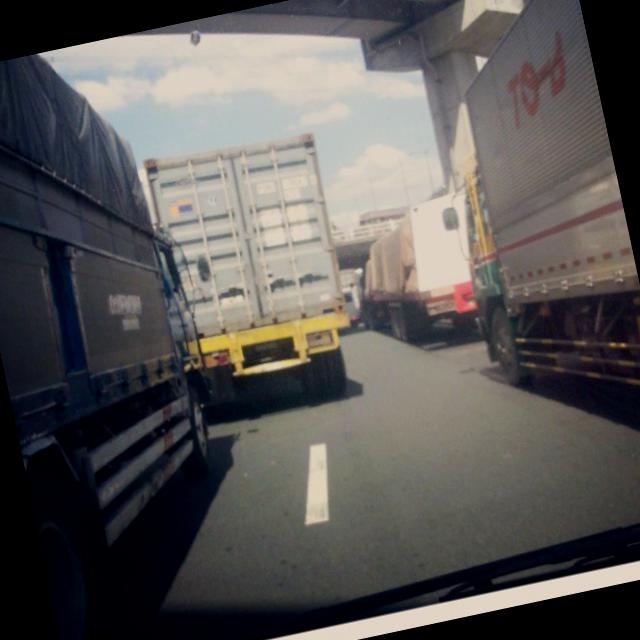Vehicle: (0, 32, 264, 640), (391, 0, 640, 434), (146, 127, 368, 424), (340, 194, 484, 356)
